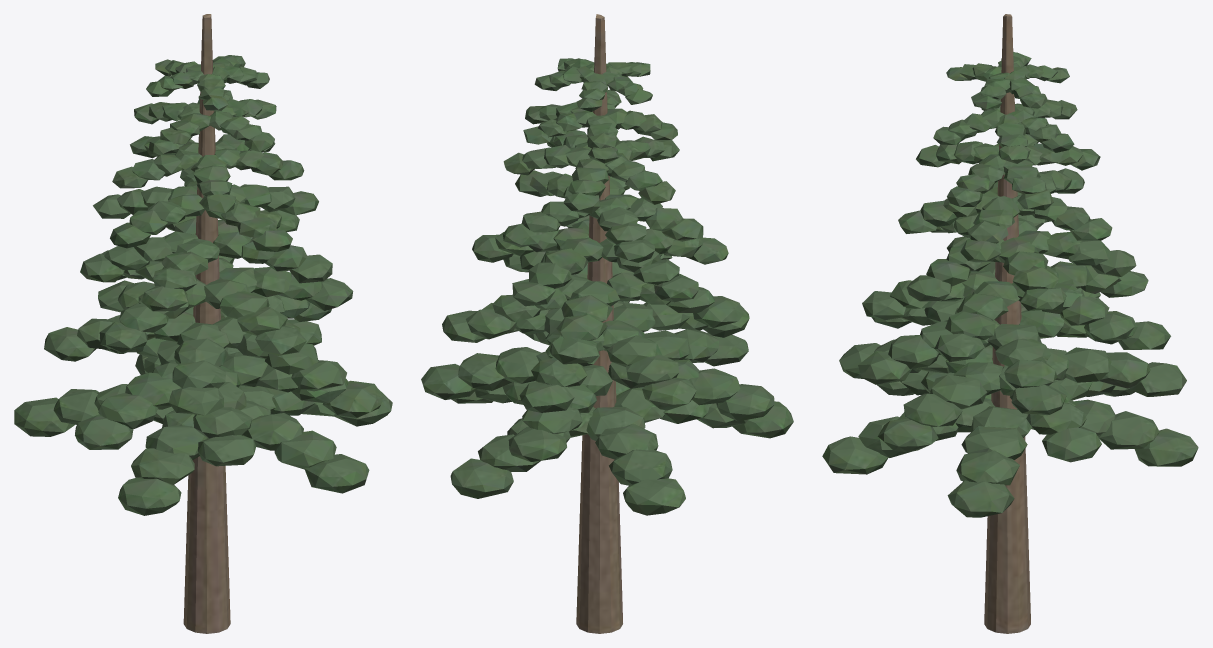
The model's file is conifera.glb.
3 renders of one model, left to right at view 1: azimuth 30°, elevation 25°; view 2: azimuth 150°, elevation 25°; view 3: azimuth 270°, elevation 25°, orthographic.
Visible parts, largest first — view 1: conifera_medio; view 2: conifera_medio; view 3: conifera_medio.
Part boxes in pixels (bbox=[...]): conifera_medio: bbox=[14, 14, 392, 633]; conifera_medio: bbox=[421, 14, 793, 633]; conifera_medio: bbox=[822, 14, 1198, 633].
Size of the model in its own units: 6.54 by 12.03 by 6.73.
1 material, 1 textured.
